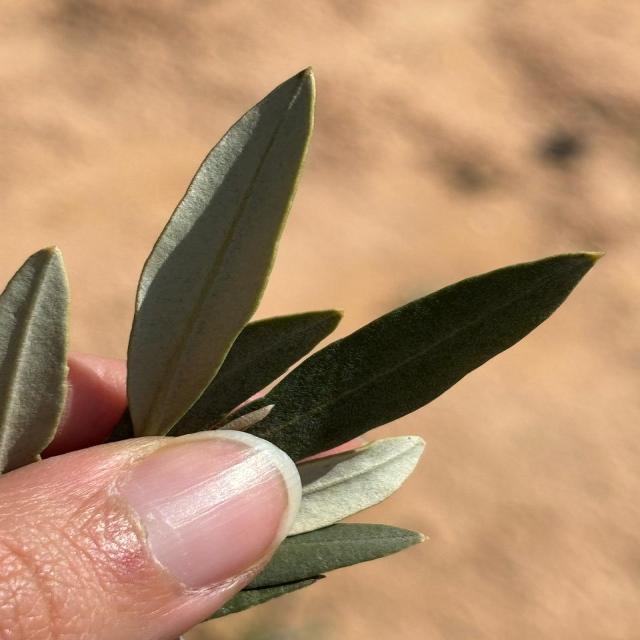Healthy: (221, 253, 601, 462), (127, 68, 315, 442), (0, 246, 68, 474)
